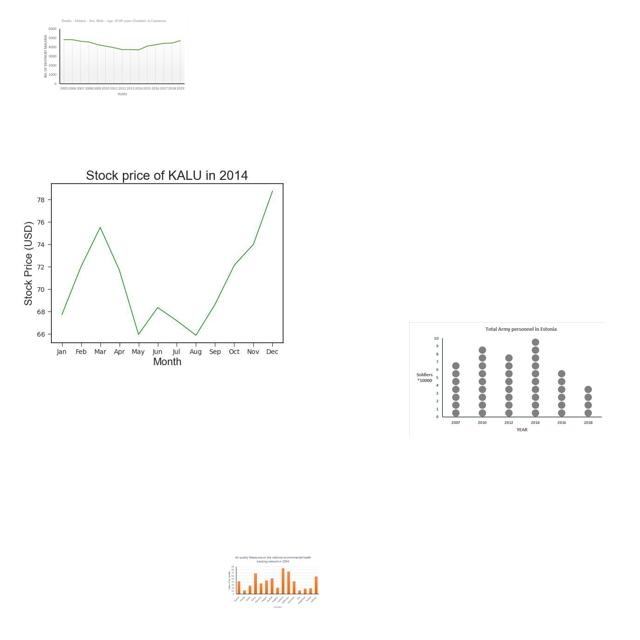Graph: (14, 150, 313, 374), (409, 322, 606, 437), (40, 17, 189, 99), (226, 554, 321, 610)
